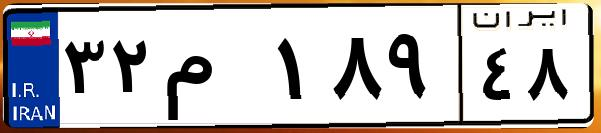1: (270, 28, 330, 110)
2: (110, 28, 158, 98)
3: (57, 26, 110, 100)
4: (475, 38, 525, 113)
8: (330, 28, 385, 110), (525, 38, 570, 115)
9: (385, 28, 445, 110)
م: (158, 20, 270, 120)
